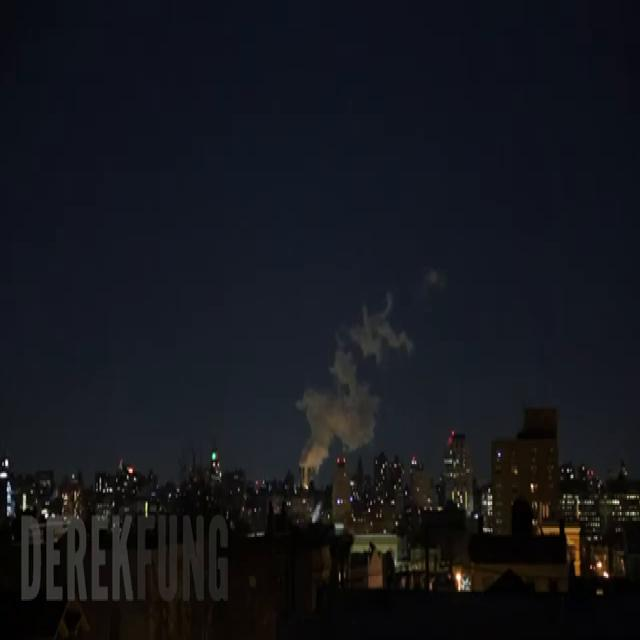smoke: (296, 293, 411, 480)
